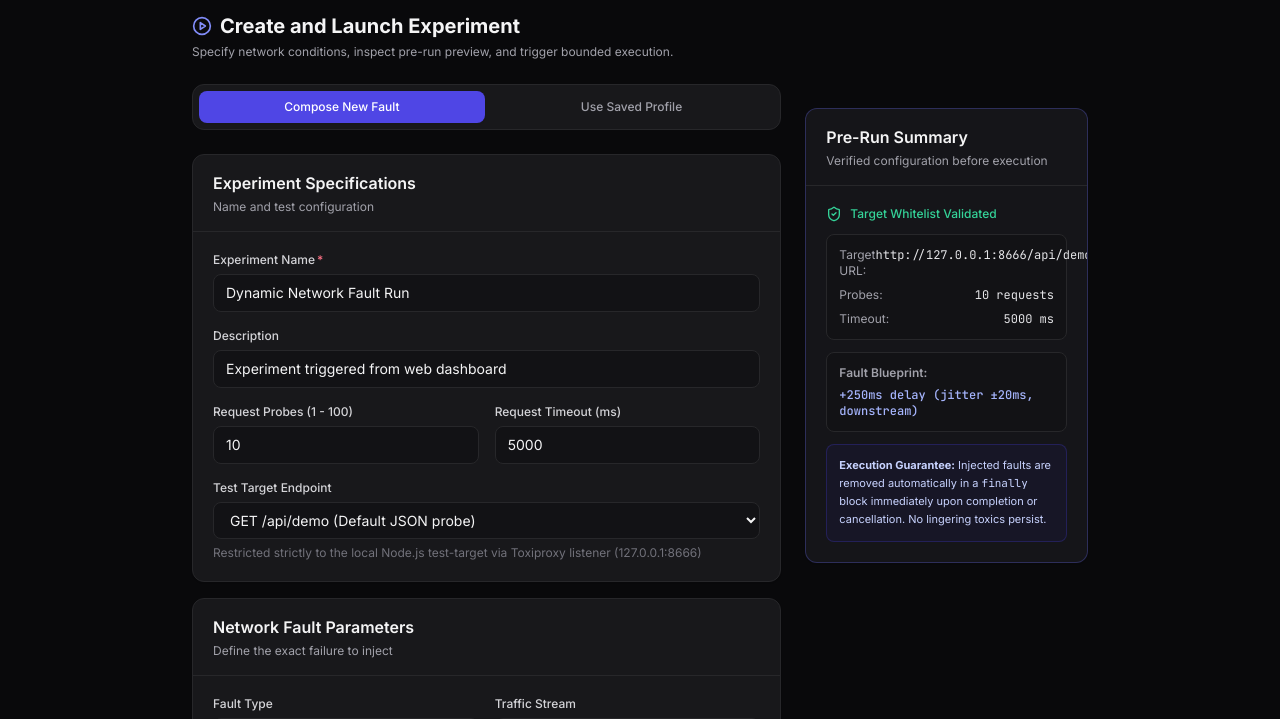
Test case: Forms and Validation Suite › switches between custom fault builder and saved profile selector
This screenshot has width=1280, height=719.
Click the button "Use Saved Profile".
click(632, 107)  # box [489,91,774,123]
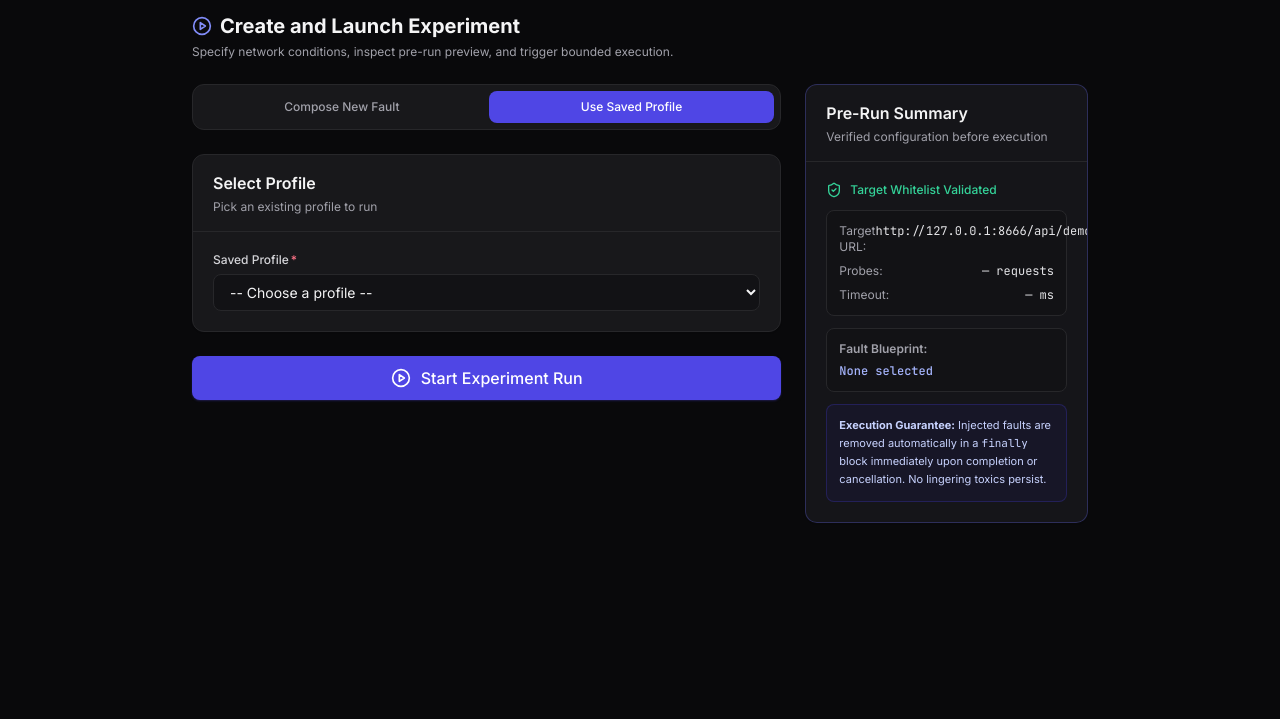
Expected: the heading "Select Profile" is shown, [213,173,316,193]
Expected: the dropdown labelled "Saved Profile*" is shown, [213,274,760,311]
Click the button "Compose New Fault".
click(342, 107)  # box [199,91,485,123]
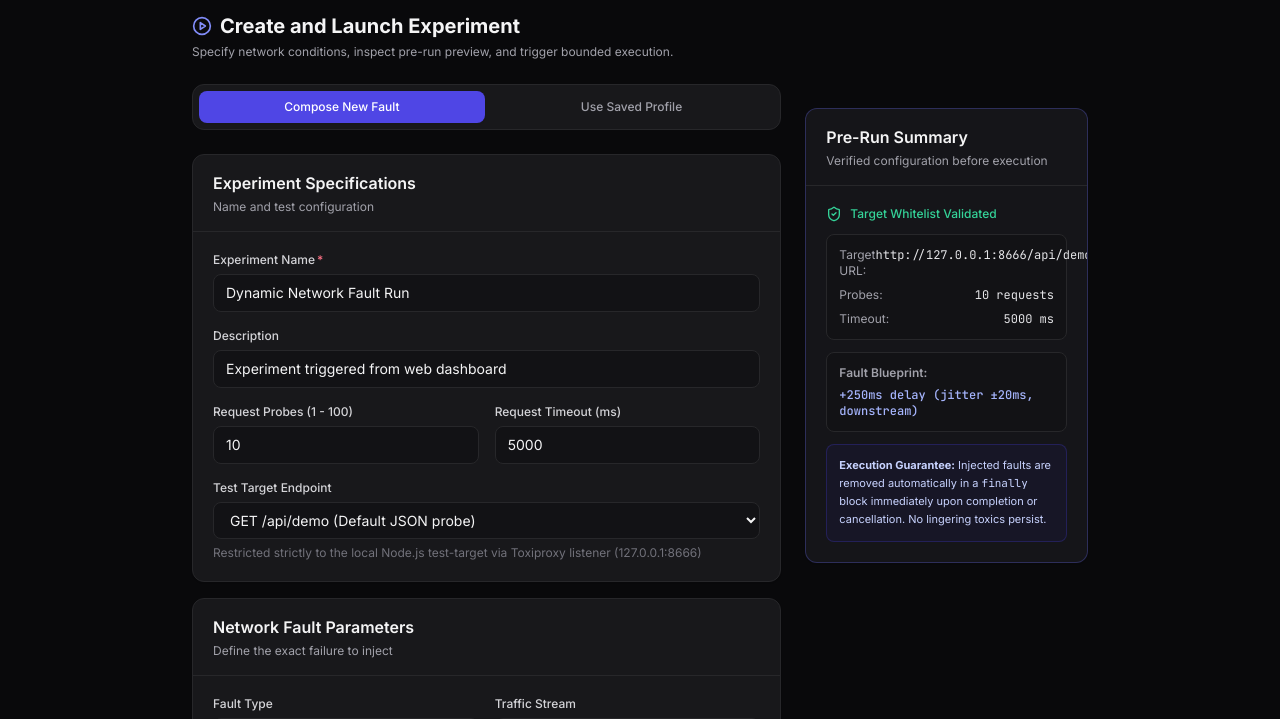
Expected: the heading "Experiment Specifications" is shown, [213,171,416,195]
